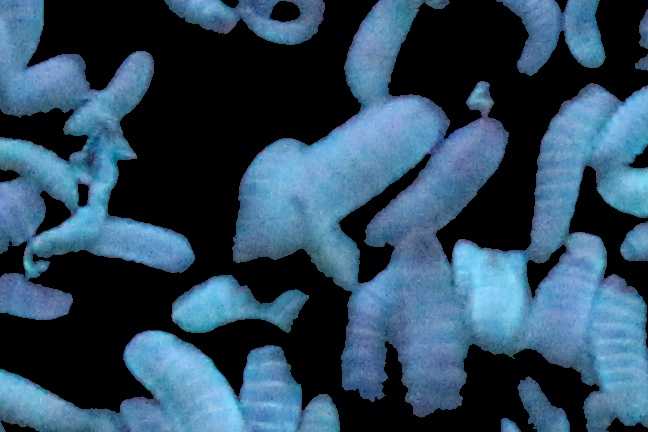larvae: (243, 100, 453, 255), (365, 121, 512, 245), (529, 81, 622, 266), (120, 314, 243, 432), (389, 233, 466, 417), (215, 121, 303, 268), (528, 236, 605, 361), (594, 281, 648, 431), (1, 365, 120, 432), (67, 50, 152, 141), (78, 212, 198, 274), (340, 278, 400, 397), (353, 1, 422, 98), (235, 337, 302, 432), (1, 129, 84, 204), (491, 1, 558, 83), (475, 245, 525, 351), (1, 54, 92, 107), (297, 209, 360, 282), (592, 90, 648, 161), (127, 1, 234, 38), (241, 1, 326, 47), (1, 274, 76, 326), (562, 1, 611, 68), (1, 1, 45, 60), (603, 166, 648, 214)
